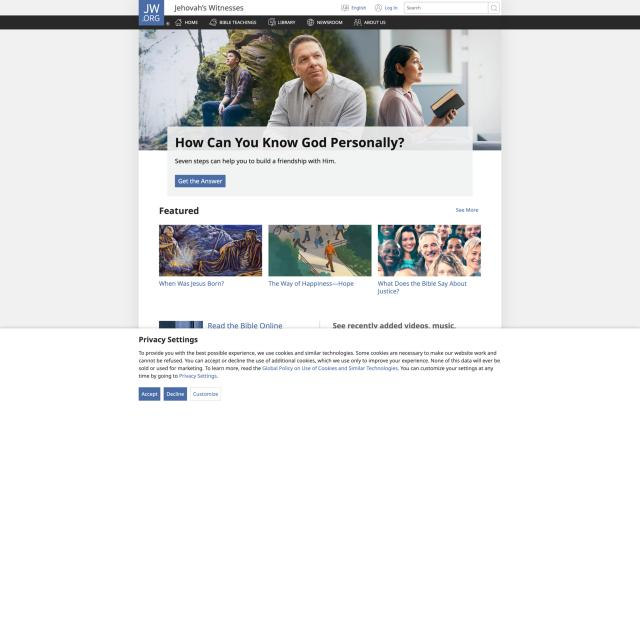CheckBox: (174, 174, 226, 188), (190, 387, 222, 401), (164, 386, 187, 402), (139, 387, 161, 401), (340, 4, 368, 12), (374, 4, 399, 12), (488, 2, 500, 13)
CheckedTextView: (404, 1, 500, 14)
bag: (138, 0, 502, 29)
card: (138, 29, 501, 150)
copy: (159, 223, 262, 277), (377, 224, 482, 276), (268, 224, 372, 276)
date picker: (137, 0, 165, 26)
decoration: (174, 18, 389, 28)
footer: (407, 5, 422, 11)
header: (0, 328, 640, 407)
image: (174, 134, 407, 150)
